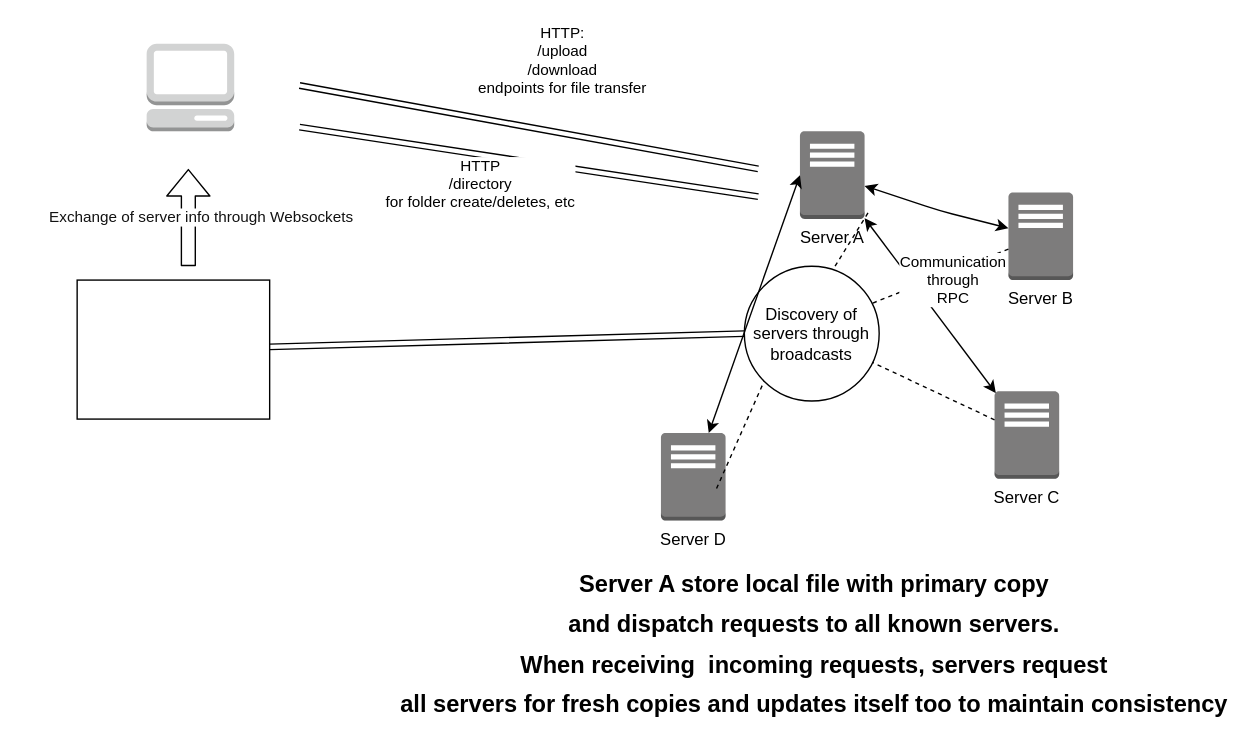
Some shapes in this 1251 by 745 pixel diagram are drawn without their labels. The shapes that lost their labels are listed below. From the top down, each one's centre as x and y in pixels, then its label:
the point at 189,86: Client
the point at 173,349: Proxy Client on Node to Intercept Broadcasts and inform client
